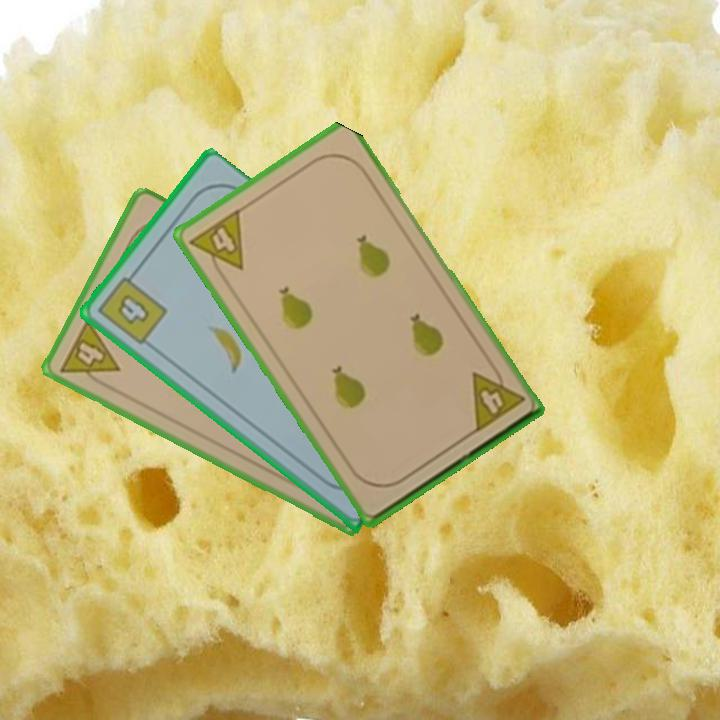4b: (94, 267, 171, 348)
4p: (56, 315, 123, 393), (186, 205, 247, 284), (467, 359, 527, 436)
